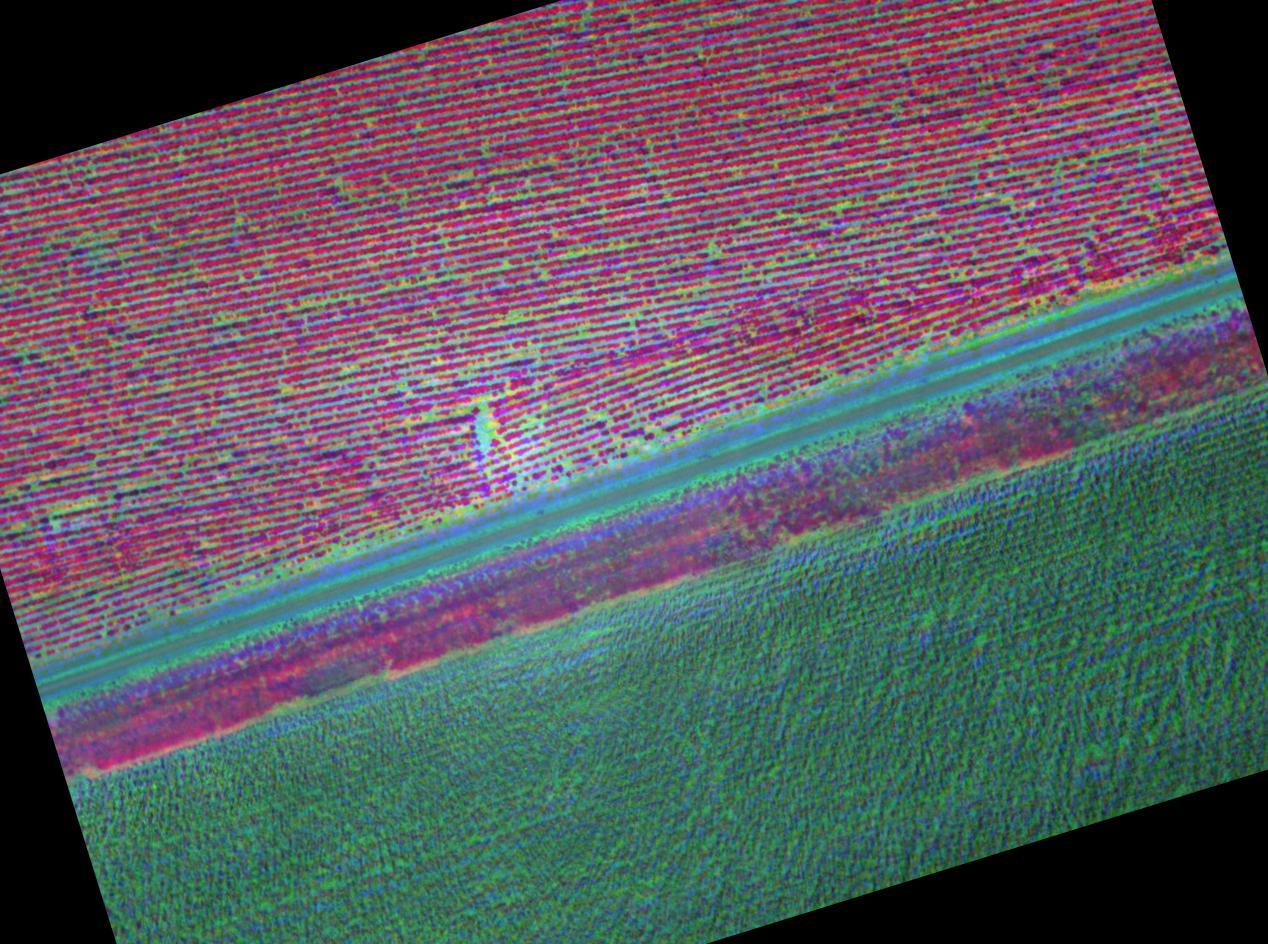dc: (482, 434, 488, 440), (585, 16, 591, 21), (643, 25, 648, 31), (910, 181, 915, 186), (995, 333, 1000, 338), (822, 369, 827, 374), (399, 386, 404, 391), (483, 410, 488, 415), (56, 509, 61, 514), (1139, 145, 1143, 150), (1004, 194, 1008, 199), (505, 264, 509, 269), (836, 206, 840, 210), (81, 234, 85, 238), (1027, 252, 1031, 256), (25, 359, 27, 363)
